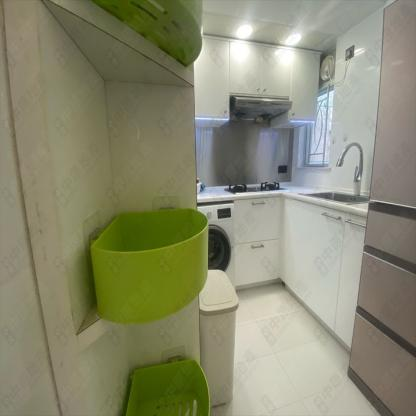Cupboard: (235, 196, 365, 346), (193, 38, 321, 121)
Exhaust Fan: (319, 54, 335, 77)
Exhaust Hood: (231, 95, 290, 122)
Faucet: (335, 139, 363, 192)
Sink: (299, 190, 370, 204)
Stove: (220, 180, 285, 193)
Washing Machine: (196, 204, 236, 289)
